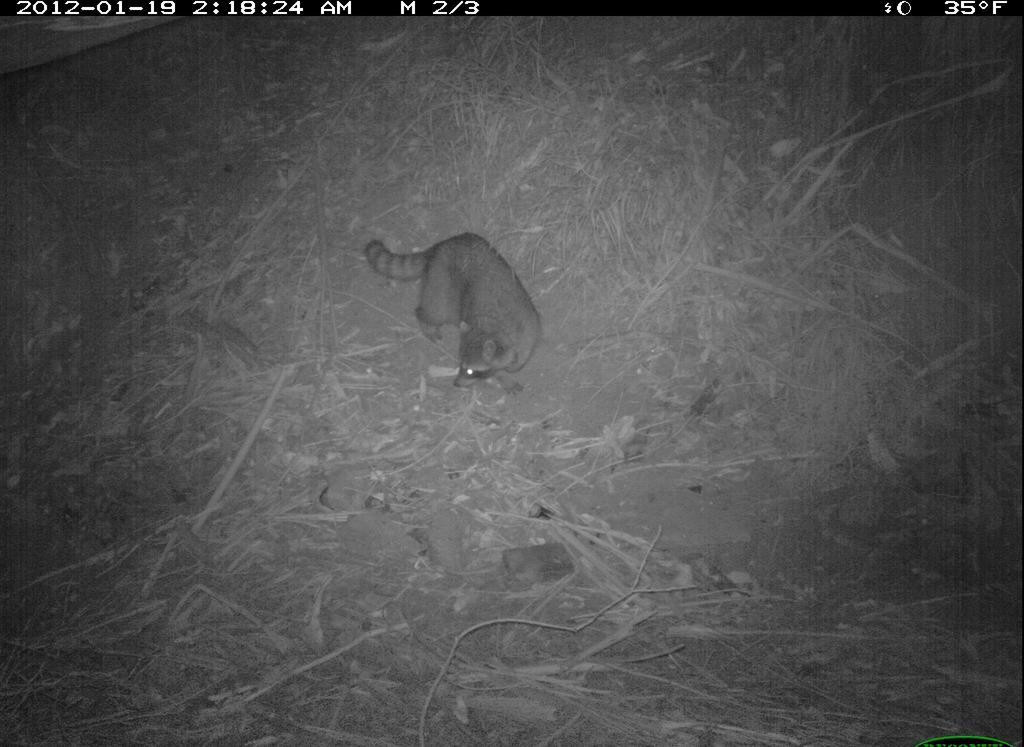raccoon: (356, 232, 551, 395)
